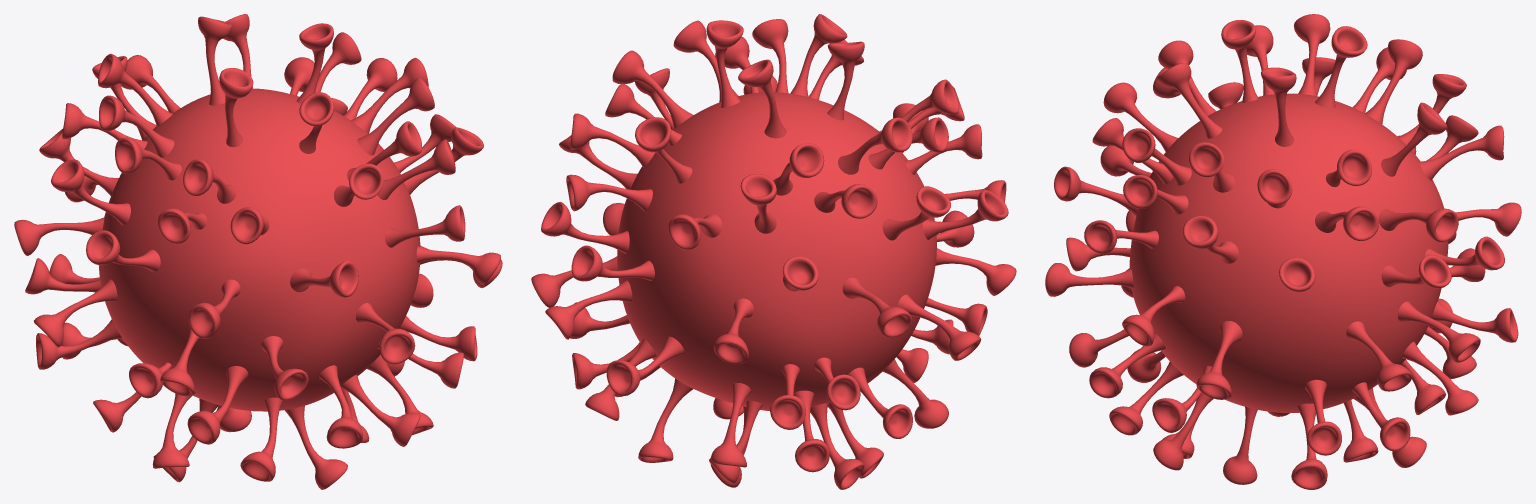
The model's file is covid19.glb.
The picture shows the model from 3 angles, left to right: view 1: azimuth 30°, elevation 25°; view 2: azimuth 150°, elevation 25°; view 3: azimuth 270°, elevation 25°; orthographic projection.
Parts seen in each view (by area): view 1: Object_0; view 2: Object_0; view 3: Object_0.
Part boxes in pixels (x1,y1,x2,y2): Object_0: [14, 14, 502, 489]; Object_0: [531, 14, 1016, 489]; Object_0: [1045, 14, 1521, 489].
Bounding box in the file's own units: 56.89 × 54.96 × 56.31.
